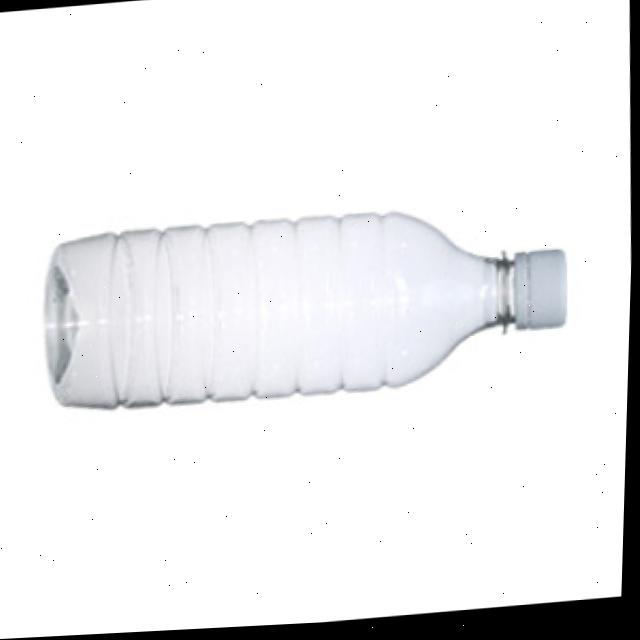Dry: (26, 154, 589, 489)
